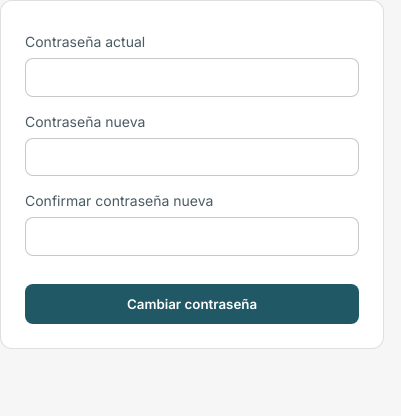
CambiarPasswordForm › muestra un error cuando la contraseña nueva es muy corta
In the password field labelled "Contraseña actual": (192, 77) [25, 58, 359, 97], type "clave-actual"
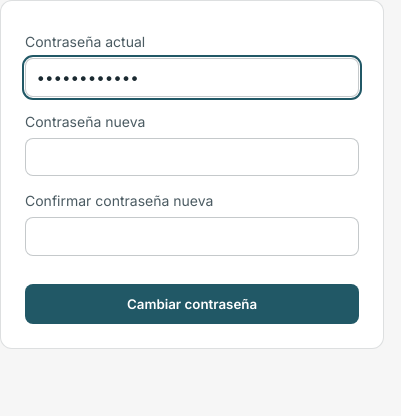
In the password field labelled "Contraseña nueva": (192, 157) [25, 138, 359, 176], type "corta"
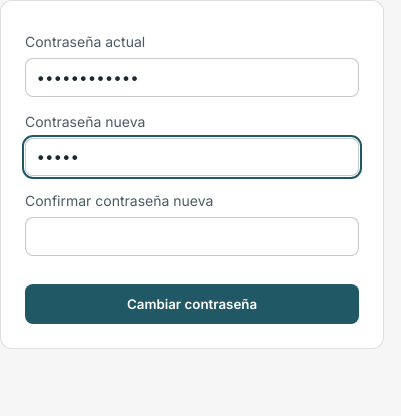
In the password field labelled "Confirmar contraseña nueva": (192, 236) [25, 217, 359, 256], type "corta"
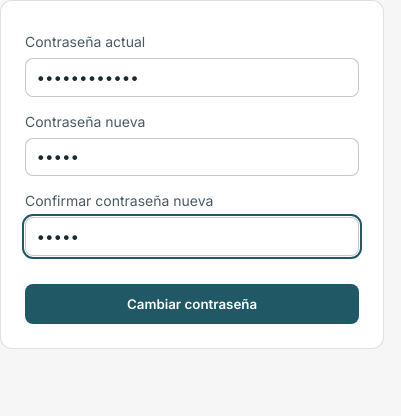
Click the button "Cambiar contraseña": (192, 304) [25, 284, 359, 324]
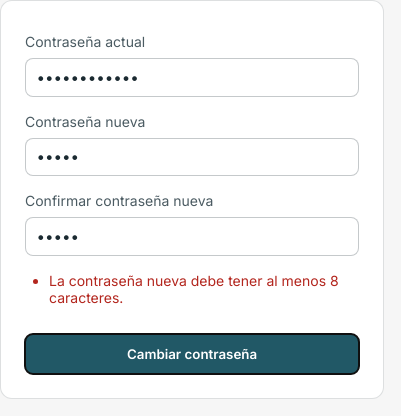
Check: the message reads "La contraseña nueva debe tener al menos 8 caracteres.", box [49, 272, 339, 306]
